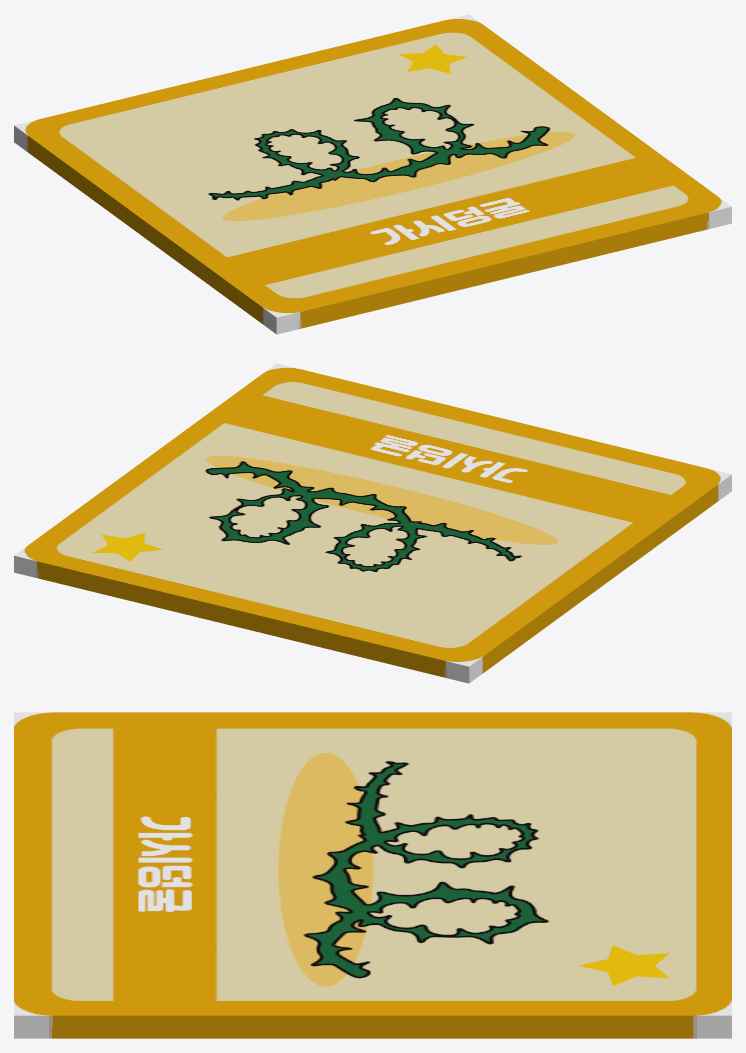
Rendered from Thorny_vinesCard.fbx.
3 views of the same model, one above another, from view 1: azimuth 30°, elevation 25°; view 2: azimuth 150°, elevation 25°; view 3: azimuth 270°, elevation 25° (orthographic). The views are drawn at different scales.
Visible parts, largest first — view 1: Front, Back; view 2: Front, Back; view 3: Front, Back.
Part boxes in pixels (x1=…): Front: x1=14, y1=14, x2=731, y2=325; Back: x1=14, y1=134, x2=731, y2=334; Front: x1=14, y1=363, x2=731, y2=674; Back: x1=14, y1=483, x2=731, y2=683; Front: x1=14, y1=712, x2=731, y2=1027; Back: x1=14, y1=1027, x2=731, y2=1038.
Bounding box in the file's own units: 4.06 × 0.1436 × 4.06.
